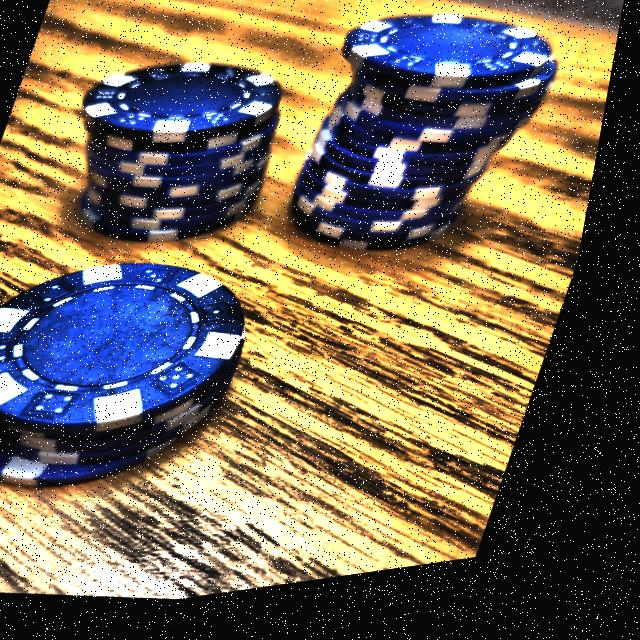Chip: (251, 0, 596, 311), (0, 224, 309, 539), (16, 17, 332, 296)
